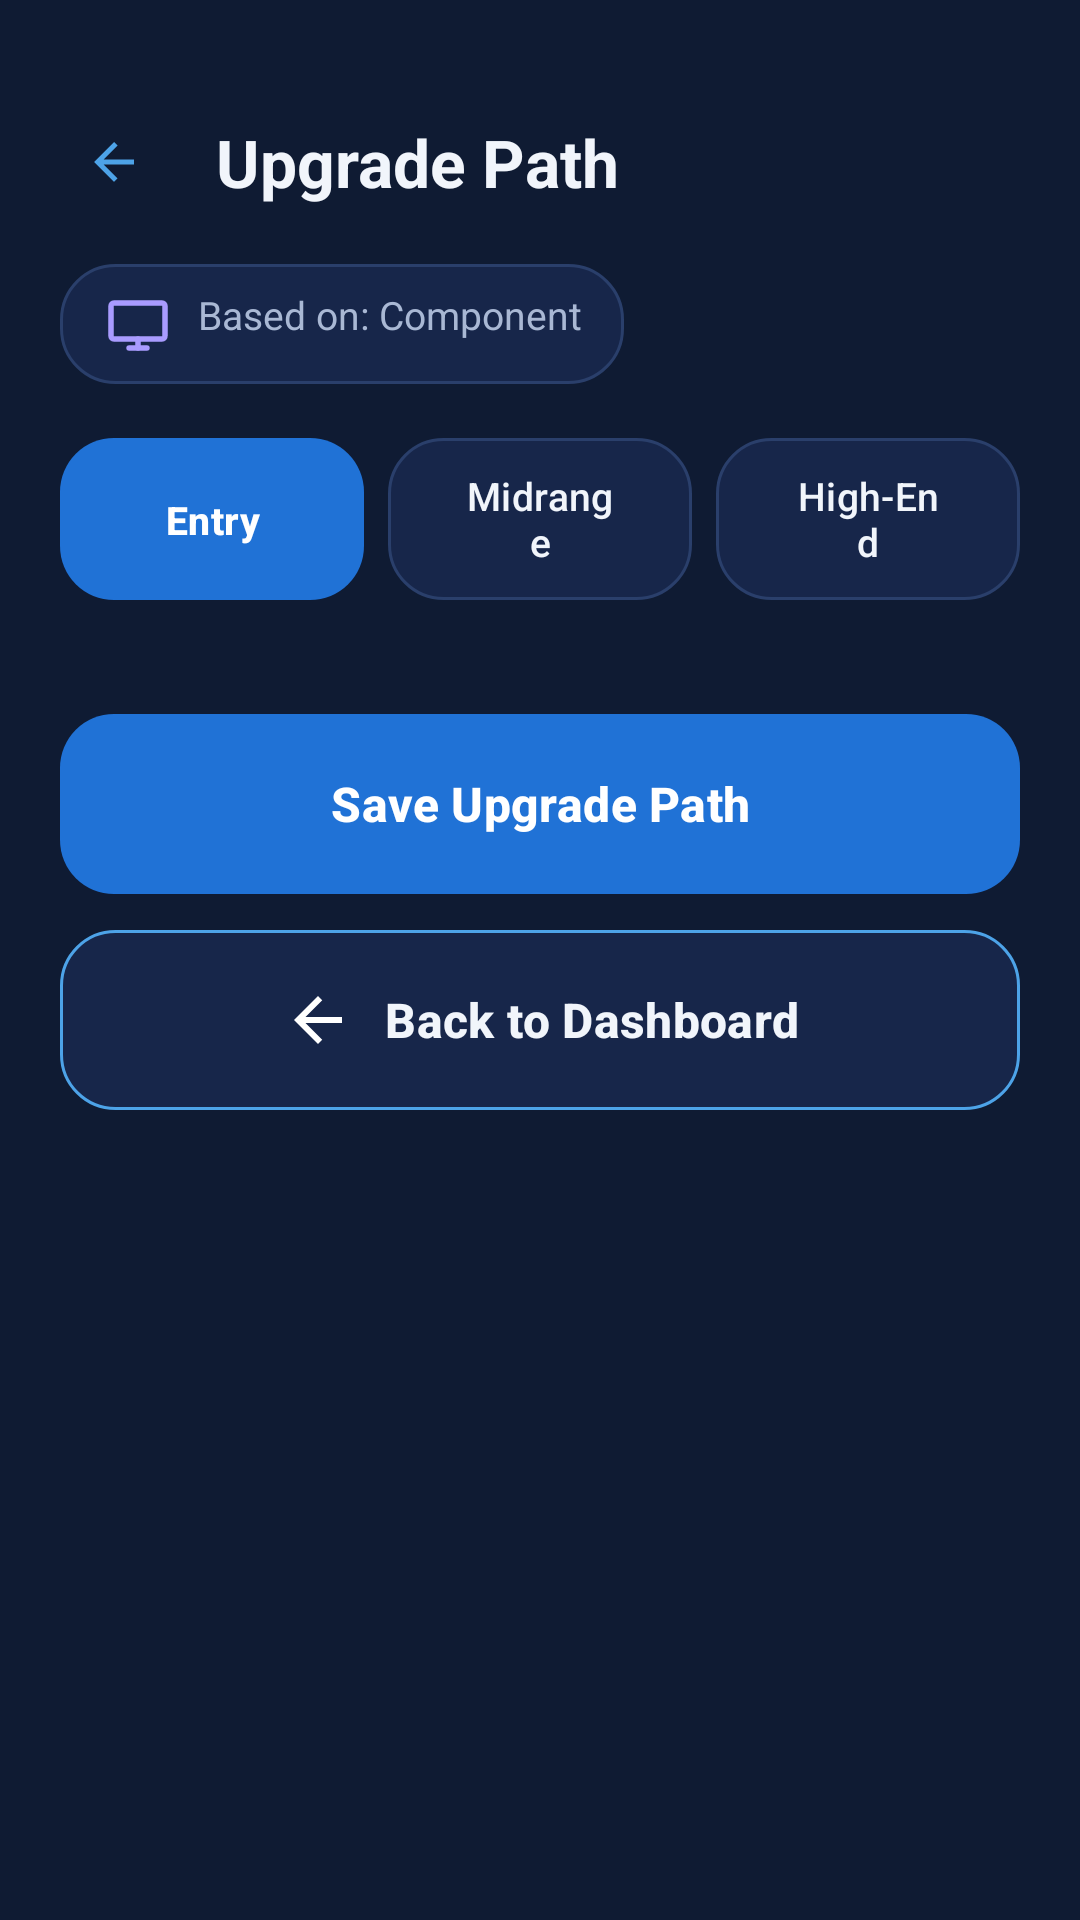

Screen size 1080×1920. Icon name, then its box in pixels as (x1, y1, x2, y2):
arrow back: (94, 142, 134, 182)
